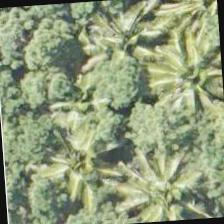Kelapa_Sawit: (28, 116, 124, 212), (75, 0, 172, 86), (142, 29, 223, 125), (114, 146, 210, 224), (169, 0, 220, 43)
